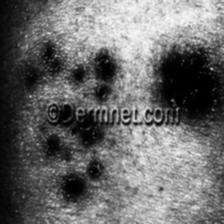Toxin: (44, 110, 102, 206), (162, 49, 218, 116), (97, 49, 115, 85)
